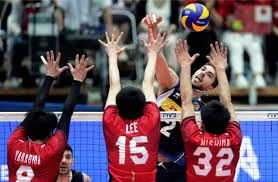ball: (180, 2, 210, 32)
